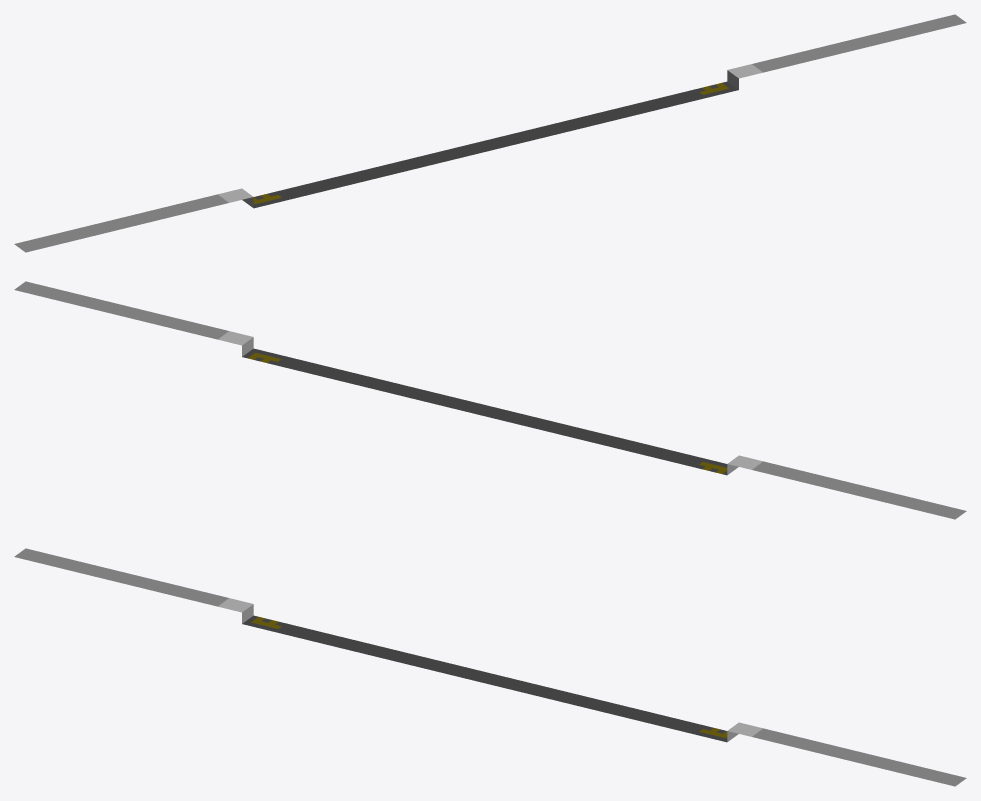
Rendered from street_straight_parkingend_Dean.fbx.
3 renders of one model, top to bottom at view 1: azimuth 30°, elevation 25°; view 2: azimuth 150°, elevation 25°; view 3: azimuth 330°, elevation 25°, orthographic.
Visible parts, largest first — view 1: polySurface4; view 2: polySurface4; view 3: polySurface4.
Boxes of the visible parts, x1,y1,x2,y2 form: polySurface4: (14,14,966,252); polySurface4: (14,281,966,519); polySurface4: (14,548,966,786).
Size of the model in its own units: 1381 by 16.09 by 29.76.
